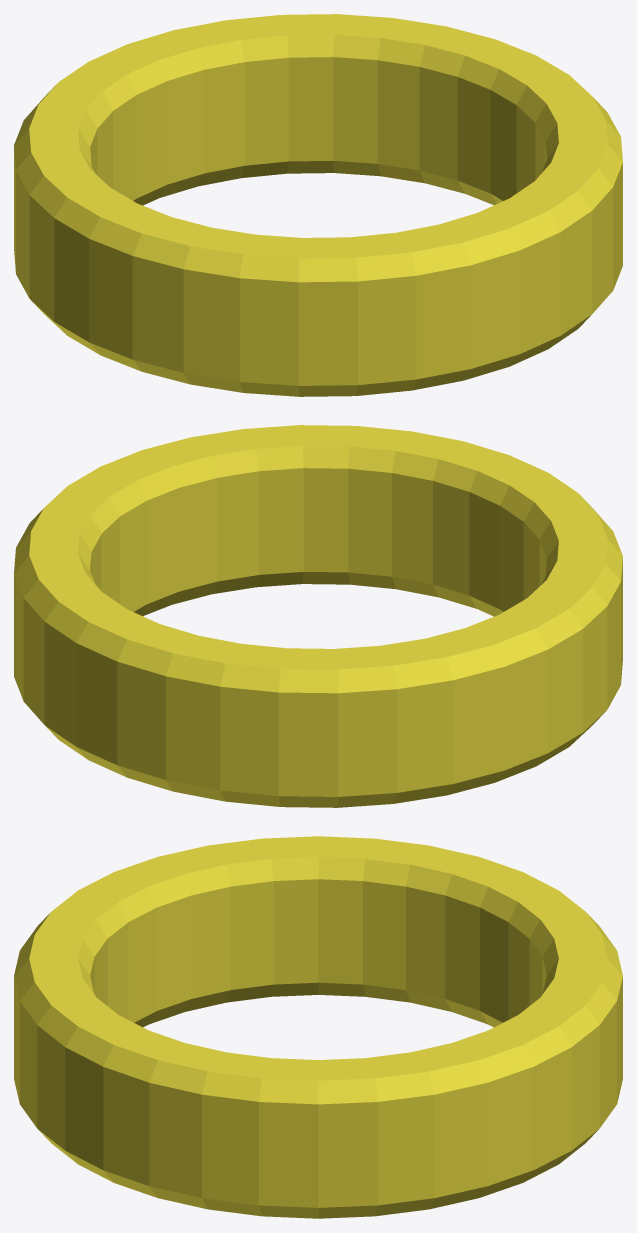
File: Ring1.glb
3 views of the same model, one above another, from view 1: azimuth 30°, elevation 25°; view 2: azimuth 150°, elevation 25°; view 3: azimuth 270°, elevation 25° (orthographic).
Visible parts, largest first — view 1: Cylinder; view 2: Cylinder; view 3: Cylinder.
Boxes of the visible parts, bbox=[...] form: Cylinder: bbox=[14, 14, 622, 396]; Cylinder: bbox=[14, 425, 622, 807]; Cylinder: bbox=[14, 836, 622, 1218].
Size of the model in its own units: 8 by 2 by 8.
